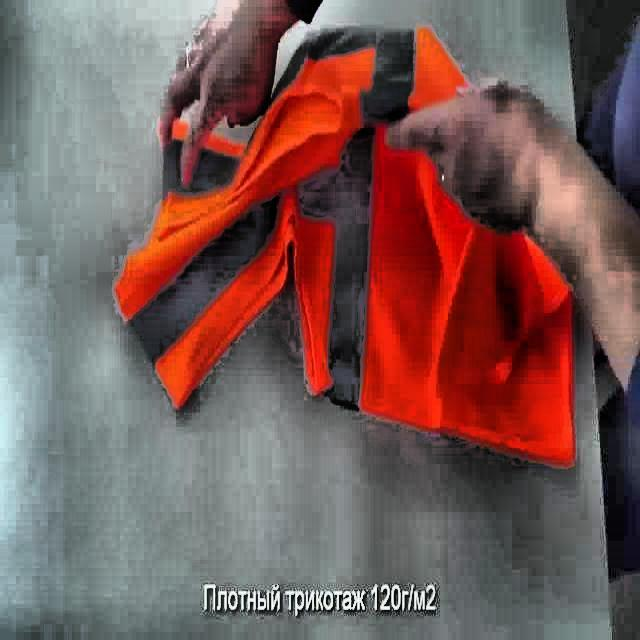safety_jacket: (112, 15, 580, 472)
